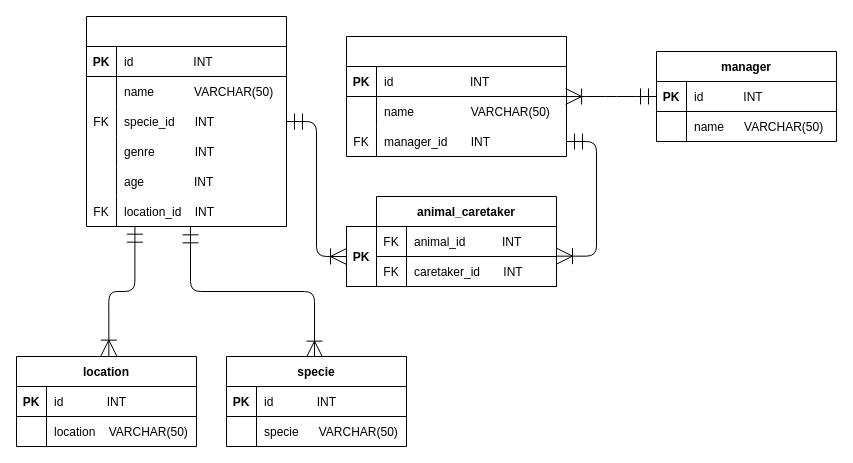
The diagram is 853 pixels wide and 463 high, and some of its shapes have lost their labels. The box of each missing label's shape, as (x1, y1, x2, y2) in pixels:
animal: (86, 16, 286, 226)
caretaker: (346, 36, 566, 156)
